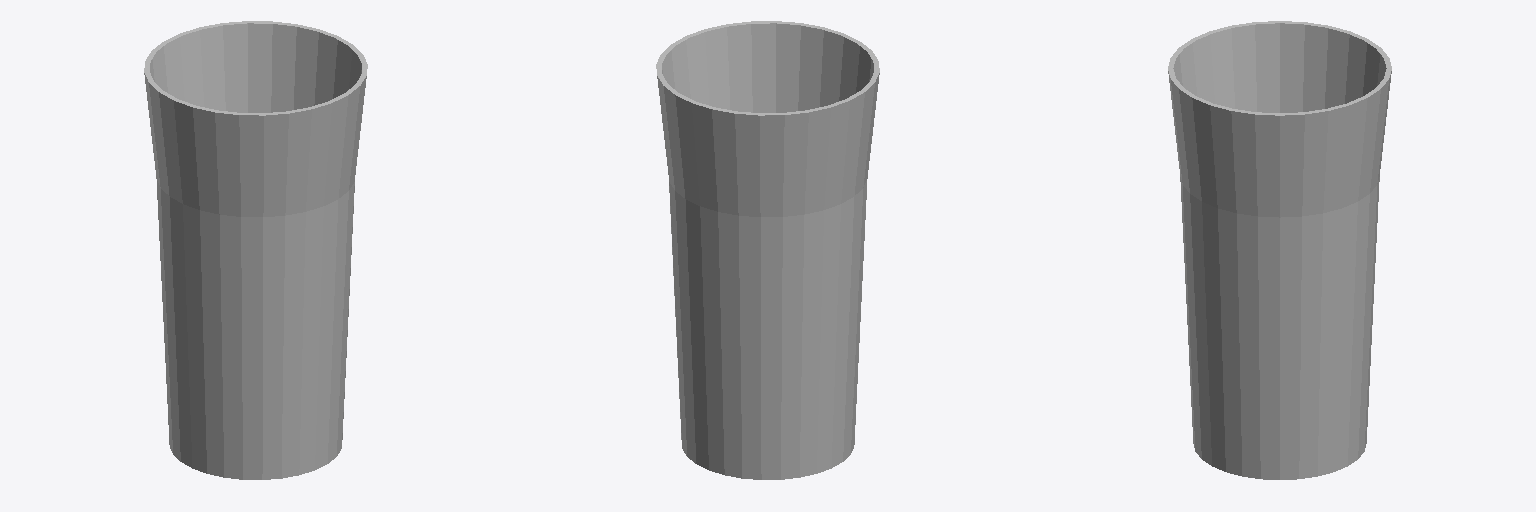
File: Glass.obj
3 views of the same model, side by side, from view 1: azimuth 30°, elevation 25°; view 2: azimuth 150°, elevation 25°; view 3: azimuth 270°, elevation 25° (orthographic).
Parts seen in each view (by area): view 1: Bicchiere_GLASS__outline_top, Bicchiere_bordo_GLASS__edge; view 2: Bicchiere_GLASS__outline_top, Bicchiere_bordo_GLASS__edge; view 3: Bicchiere_GLASS__outline_top, Bicchiere_bordo_GLASS__edge.
Part boxes in pixels (left/top/right/bottom): Bicchiere_GLASS__outline_top: left=144, top=23, right=366, bottom=479; Bicchiere_bordo_GLASS__edge: left=144, top=21, right=367, bottom=115; Bicchiere_GLASS__outline_top: left=657, top=23, right=879, bottom=479; Bicchiere_bordo_GLASS__edge: left=656, top=21, right=879, bottom=115; Bicchiere_GLASS__outline_top: left=1168, top=23, right=1391, bottom=479; Bicchiere_bordo_GLASS__edge: left=1168, top=21, right=1391, bottom=115.
Bounding box in the file's own units: 212 × 392 × 212.